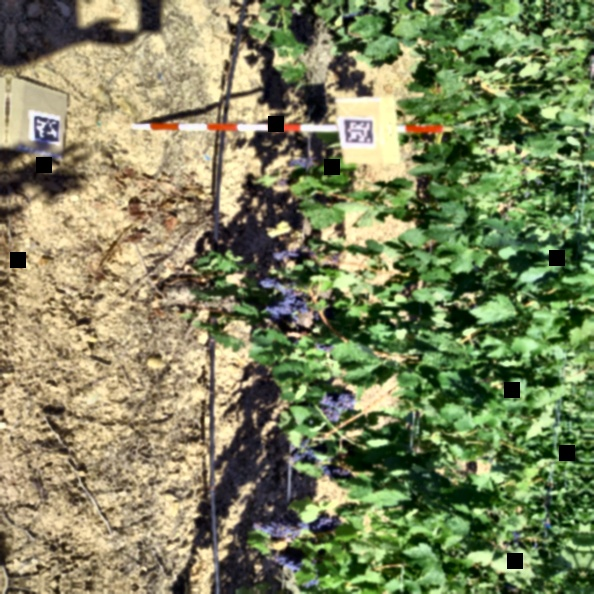QR: (33, 115, 61, 143), (345, 120, 372, 144)
